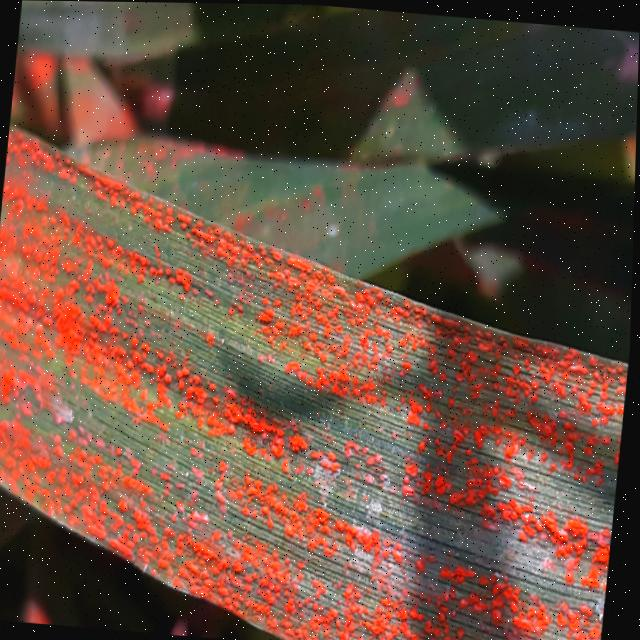yellow_rust: (0, 119, 637, 640), (149, 2, 640, 179), (5, 0, 157, 184)
